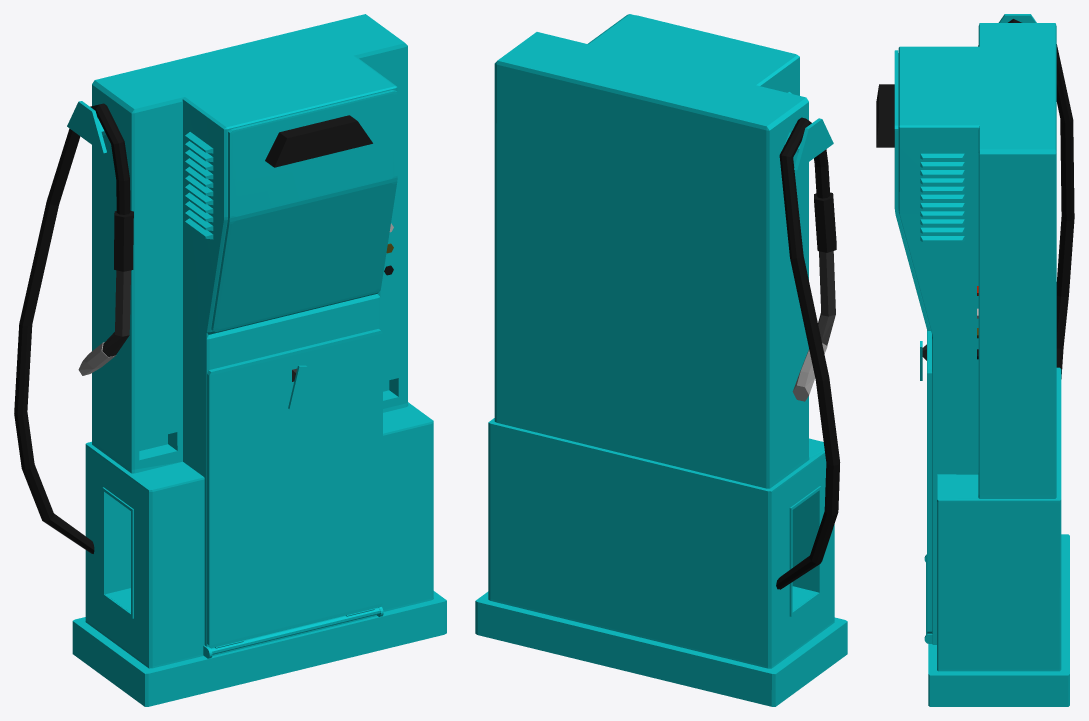
Rendered from qizhuang.obj.
3 renders of one model, left to right at view 1: azimuth 30°, elevation 25°; view 2: azimuth 150°, elevation 25°; view 3: azimuth 270°, elevation 25°, orthographic. The views are drawn at different scales.
Visible parts, largest first — view 1: ASPIMCAJ_ASPIMCAJ_ASPIMCAJ, ASPIMCAJ_ASPIMCAJ_ASPIPARO, ASPIMCAJ_ASPIMCAJ_ASPIPNEG, ASPIMCAJ_ASPIMCAJ_ASPIPLAT; view 2: ASPIMCAJ_ASPIMCAJ_ASPIMCAJ, ASPIMCAJ_ASPIMCAJ_ASPIPARO, ASPIMCAJ_ASPIMCAJ_ASPIPLAT, ASPIMCAJ_ASPIMCAJ_ASPIPNEG, ASPIMCAJ_ASPIMCAJ_ASPIPGRI; view 3: ASPIMCAJ_ASPIMCAJ_ASPIMCAJ, ASPIMCAJ_ASPIMCAJ_ASPIPARO, ASPIMCAJ_ASPIMCAJ_ASPIPNEG.
Boxes of the visible parts, x1,y1,x2,y2 form: ASPIMCAJ_ASPIMCAJ_ASPIMCAJ: (67, 14, 446, 706); ASPIMCAJ_ASPIMCAJ_ASPIPARO: (14, 103, 130, 553); ASPIMCAJ_ASPIMCAJ_ASPIPNEG: (114, 115, 393, 275); ASPIMCAJ_ASPIMCAJ_ASPIPLAT: (102, 270, 296, 381); ASPIMCAJ_ASPIMCAJ_ASPIMCAJ: (475, 14, 847, 706); ASPIMCAJ_ASPIMCAJ_ASPIPARO: (776, 117, 840, 589); ASPIMCAJ_ASPIMCAJ_ASPIPLAT: (818, 251, 835, 345); ASPIMCAJ_ASPIMCAJ_ASPIPNEG: (814, 192, 836, 252); ASPIMCAJ_ASPIMCAJ_ASPIPGRI: (792, 343, 827, 401); ASPIMCAJ_ASPIMCAJ_ASPIMCAJ: (894, 14, 1069, 706); ASPIMCAJ_ASPIMCAJ_ASPIPARO: (978, 19, 1074, 378); ASPIMCAJ_ASPIMCAJ_ASPIPNEG: (876, 84, 978, 359).
Size of the model in its own units: 3.03 by 4.59 by 1.5.
